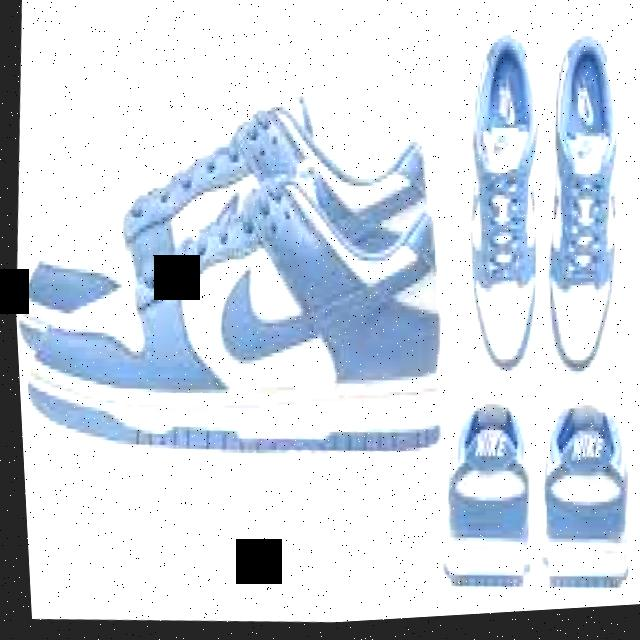shoes: (4, 66, 460, 485), (443, 34, 637, 391), (426, 394, 637, 613)
